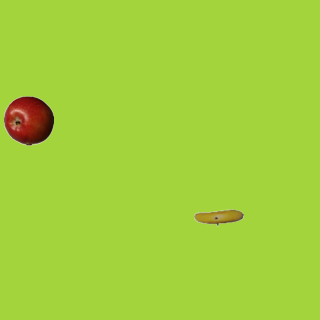Apple Braeburn: (3, 95, 53, 145)
Banana: (193, 192, 243, 242)
